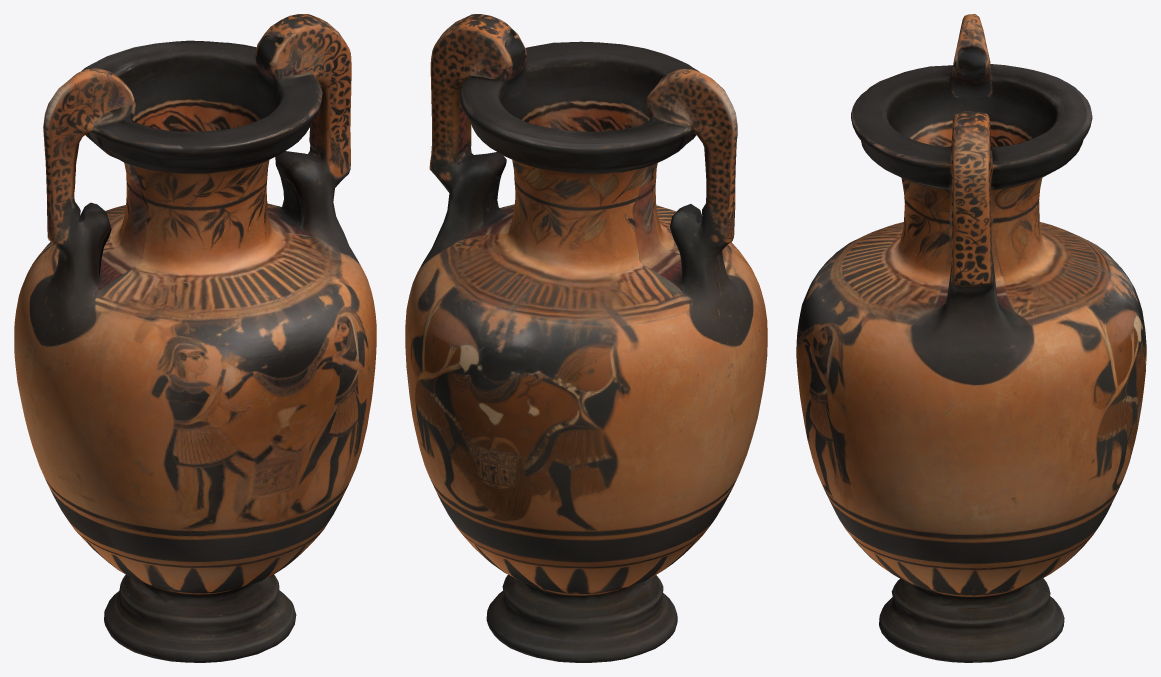
Rendered from Ancient_Greek_Warrior.glb.
3 renders of one model, left to right at view 1: azimuth 30°, elevation 25°; view 2: azimuth 150°, elevation 25°; view 3: azimuth 270°, elevation 25°, orthographic. The views are drawn at different scales.
Size of the model in its own units: 1.13 by 2 by 1.14.
Materials: 1 (1 with a texture image).
